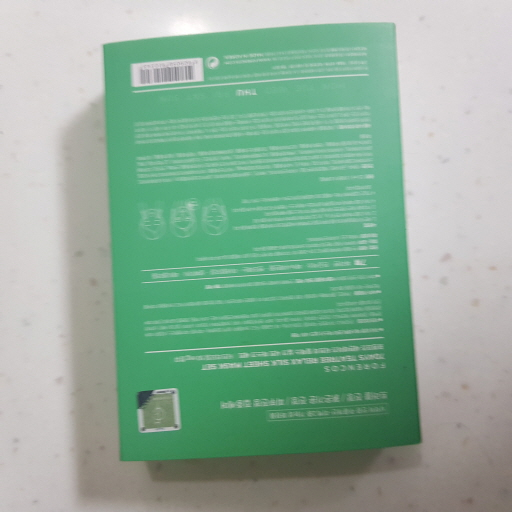Paper_0: (97, 17, 426, 462)
